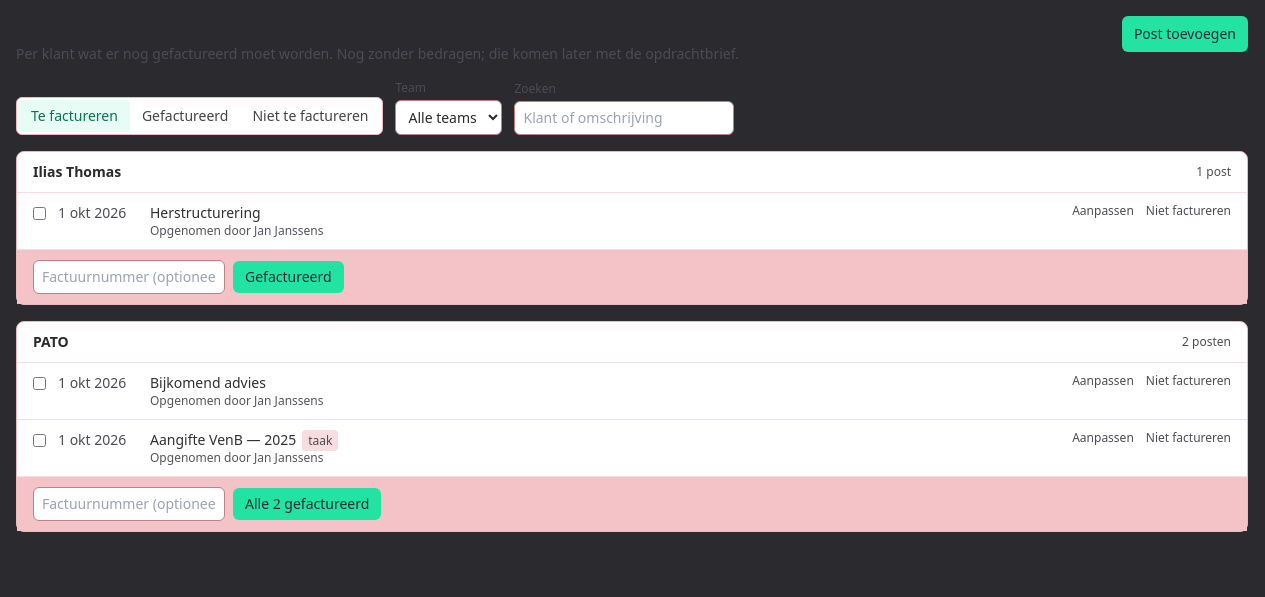
Scenario: TeFacturerenPage › vinkt alles van één klant af, met factuurnummer
Type "F-2026-0142" into the field named "Factuurnummer voor PATO" at (129, 504), box [33,487,225,521]
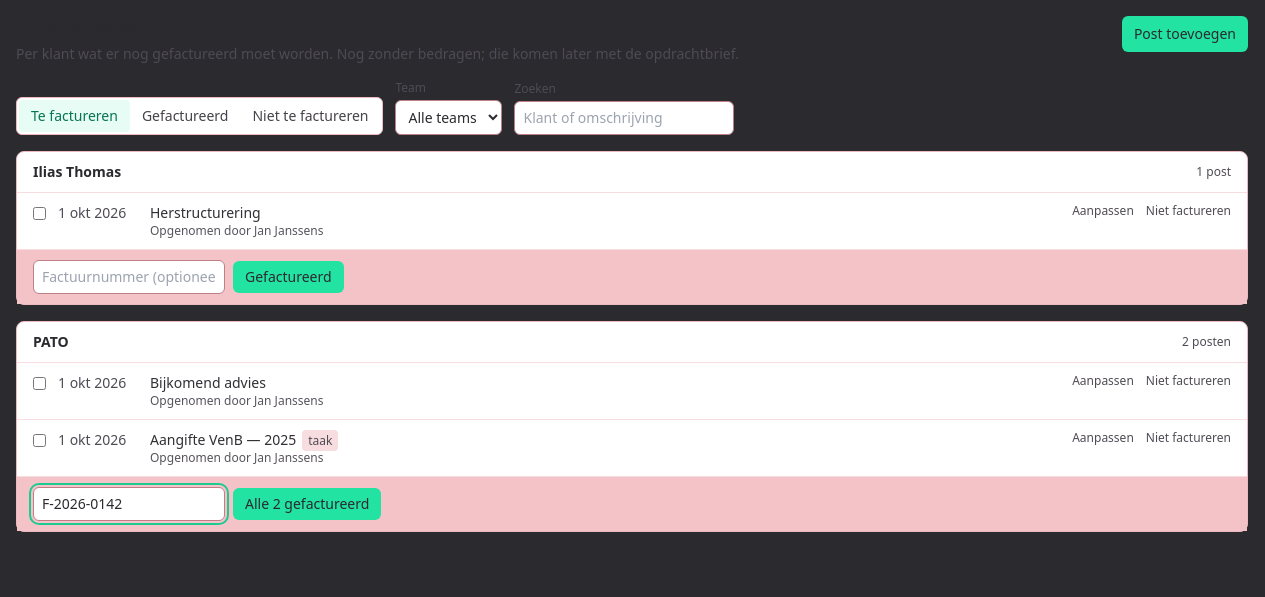
Click the button "Alle 2 gefactureerd" at (307, 504), box [233,488,381,520]
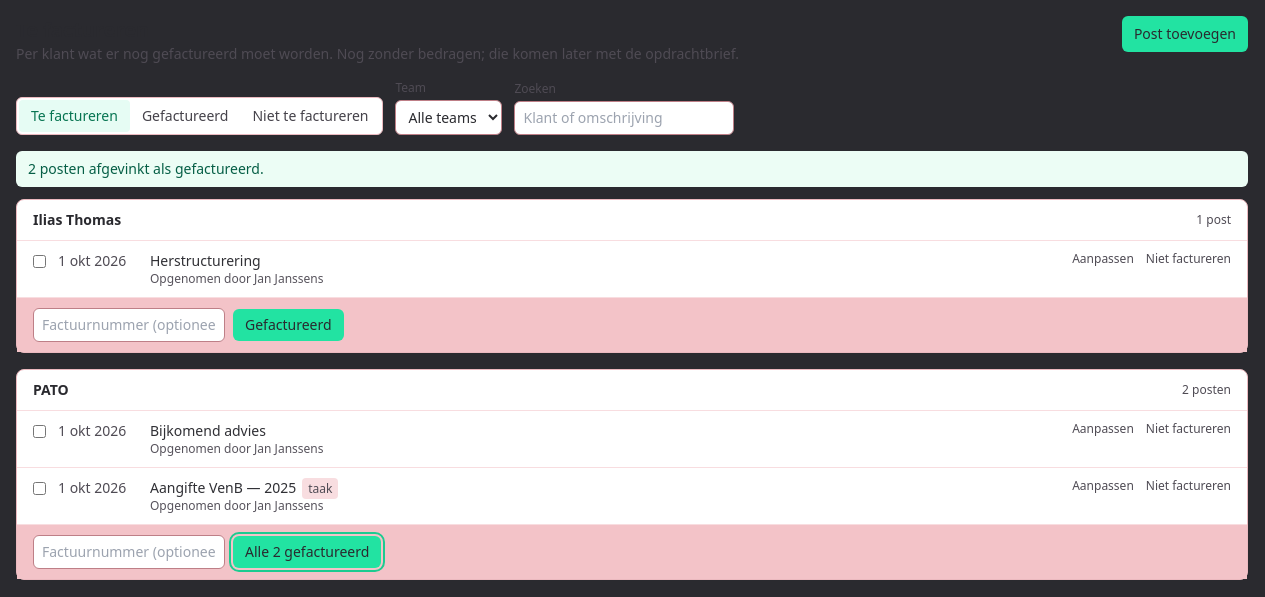
Check: the message shows "2 posten afgevinkt als gefactureerd", box [28,159,264,178]
